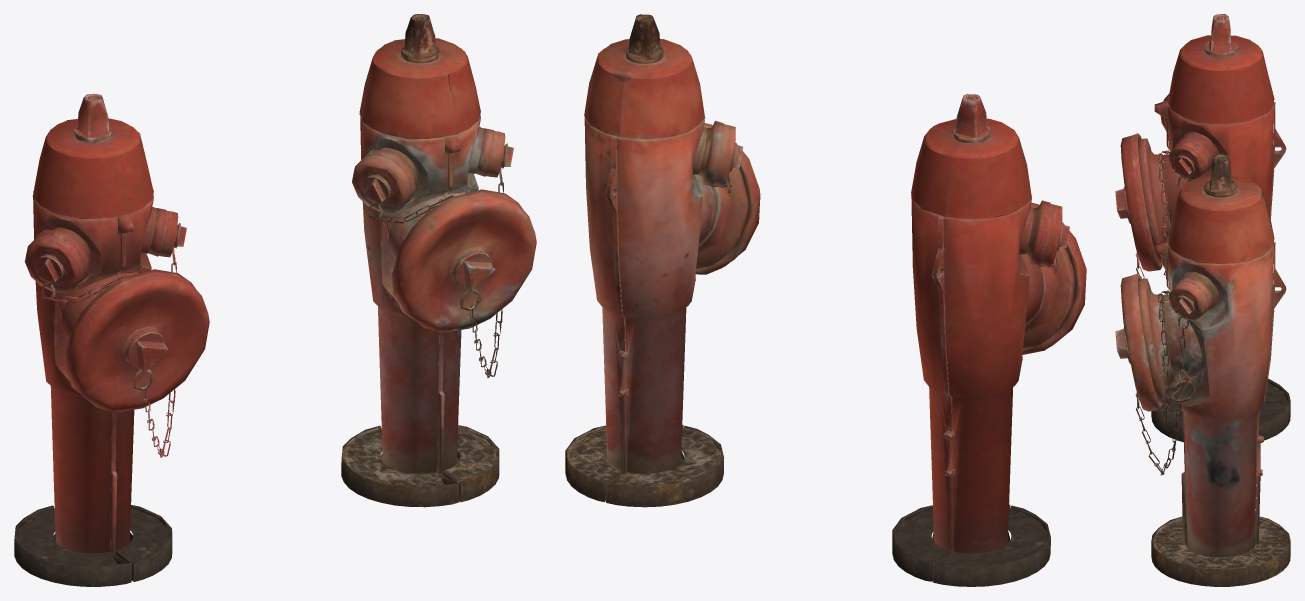
Rendered from ph_fire_hydrant.glb.
3 renders of one model, left to right at view 1: azimuth 30°, elevation 25°; view 2: azimuth 150°, elevation 25°; view 3: azimuth 270°, elevation 25°, orthographic. The views are drawn at different scales.
Parts seen in each view (by area): view 1: fire_hydrant; view 2: fire_hydrant; view 3: fire_hydrant.
Part boxes in pixels (bbox=[...]): fire_hydrant: bbox=[14, 14, 536, 586]; fire_hydrant: bbox=[565, 14, 1086, 586]; fire_hydrant: bbox=[1115, 14, 1290, 586].
Bounding box in the file's own units: 0.8738 × 0.8004 × 0.3173.
2 materials, 2 textured.
